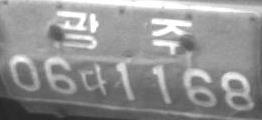0: (7, 53, 41, 92)
1: (145, 63, 175, 104), (111, 61, 140, 101)
6: (182, 66, 217, 108), (43, 55, 77, 96)
8: (220, 70, 255, 112)
광주_D: (55, 9, 194, 56)
다: (79, 61, 109, 97)
